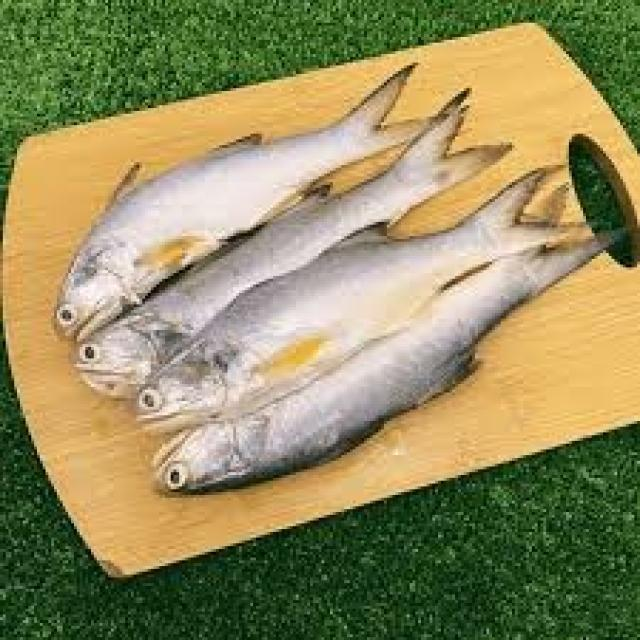Fourfinger-Threadfin: (28, 109, 599, 494)
